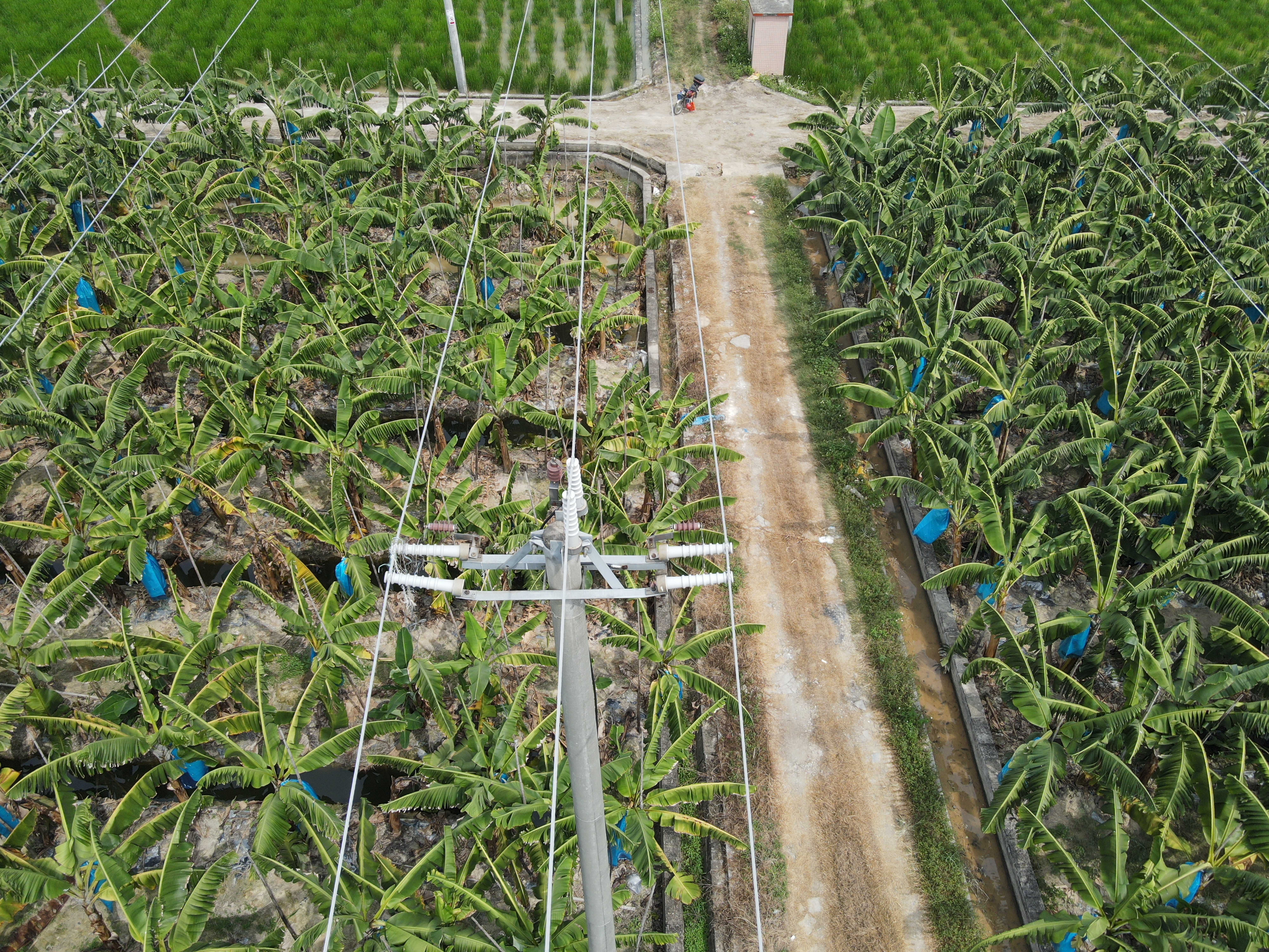异物: (378, 536, 434, 658), (480, 562, 495, 629)
